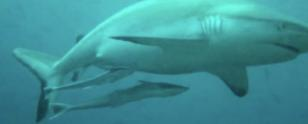Shark -Selachimorpha-: (11, 0, 308, 121)
